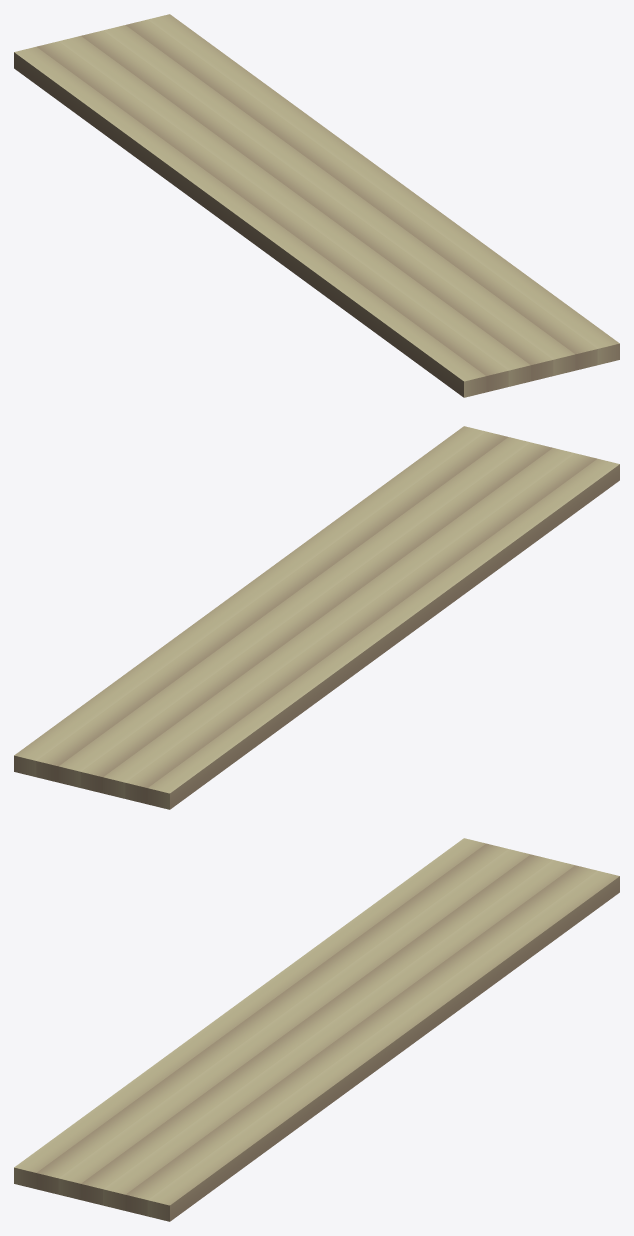
File: Fbx_BowlingLane.fbx
3 renders of one model, top to bottom at view 1: azimuth 30°, elevation 25°; view 2: azimuth 150°, elevation 25°; view 3: azimuth 330°, elevation 25°, orthographic.
Visible parts, largest first — view 1: BowlingLane; view 2: BowlingLane; view 3: BowlingLane.
Boxes of the visible parts, box(x1,y1,x2,y2) form: BowlingLane: box(14, 14, 619, 397); BowlingLane: box(14, 426, 619, 809); BowlingLane: box(14, 838, 619, 1221).
Bounding box in the file's own units: 1 × 0.1 × 5.
